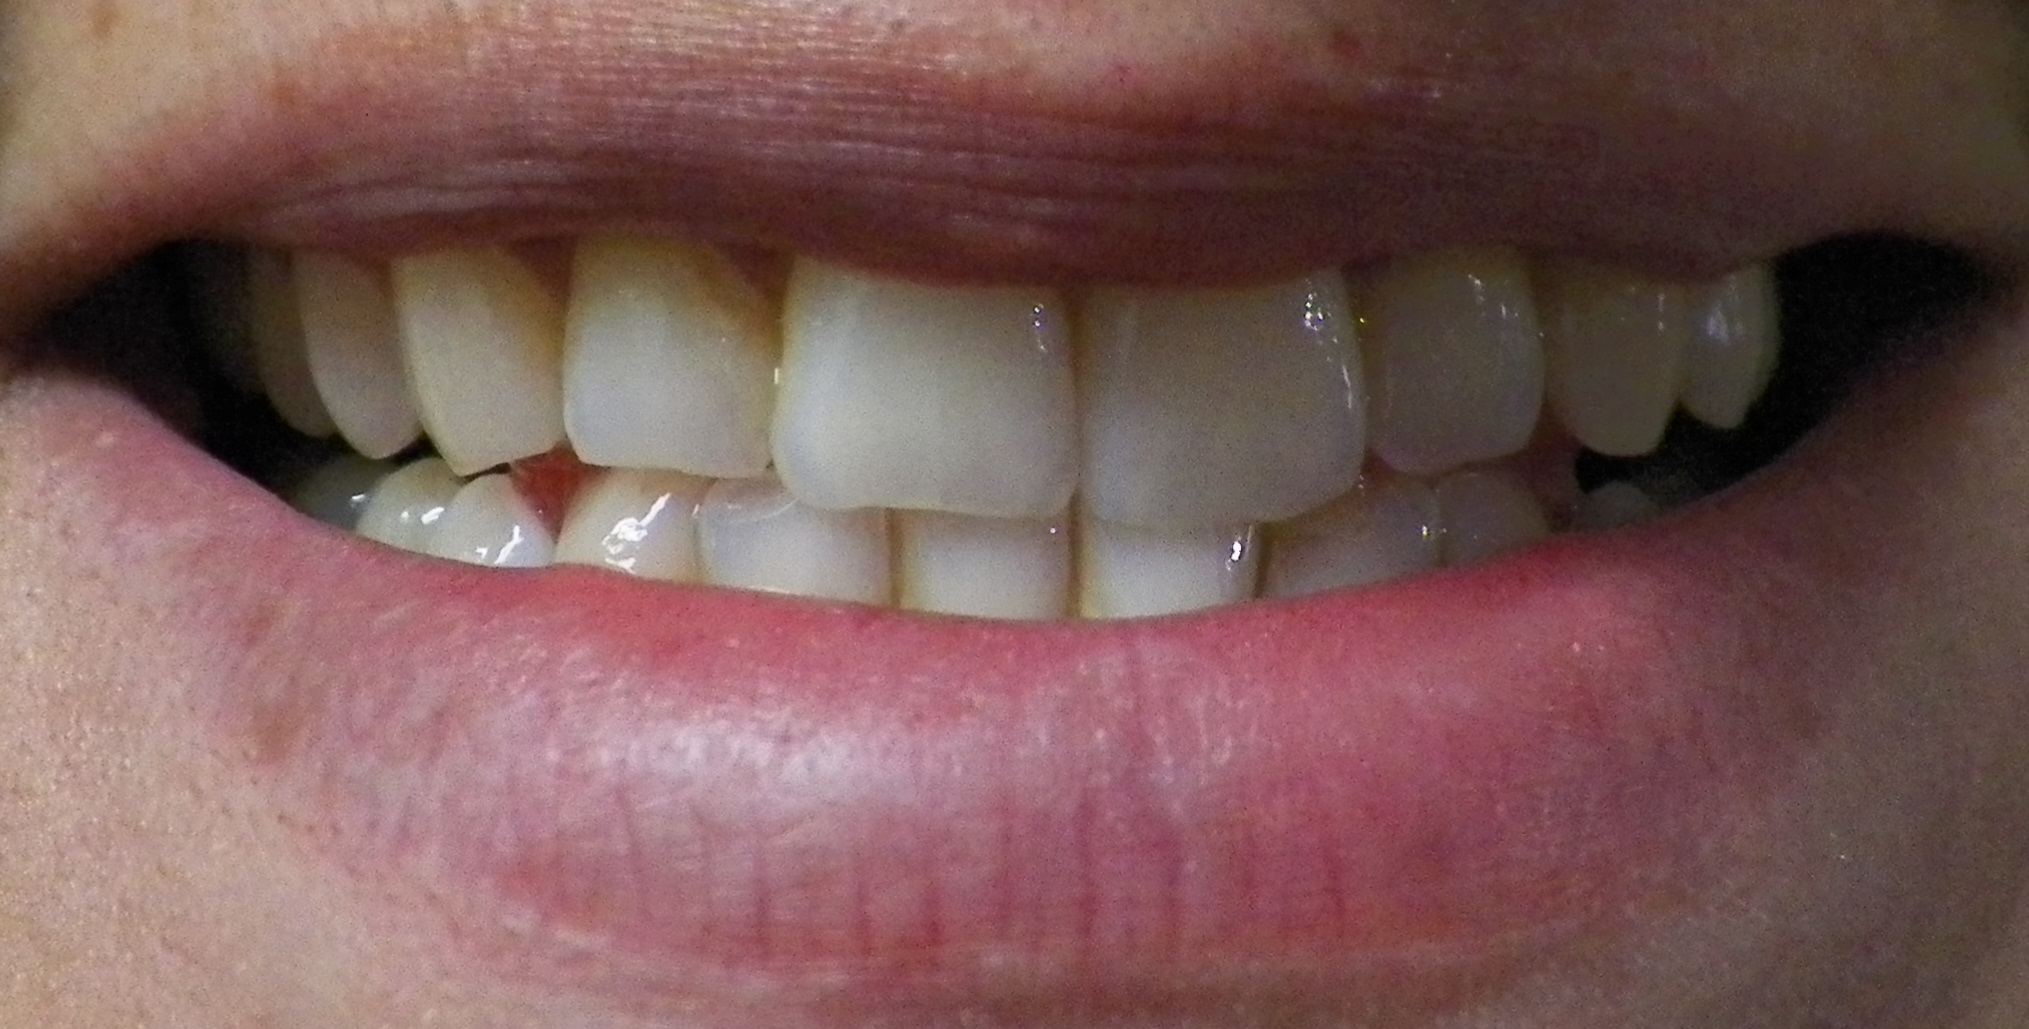boca: (198, 235, 1798, 614)
